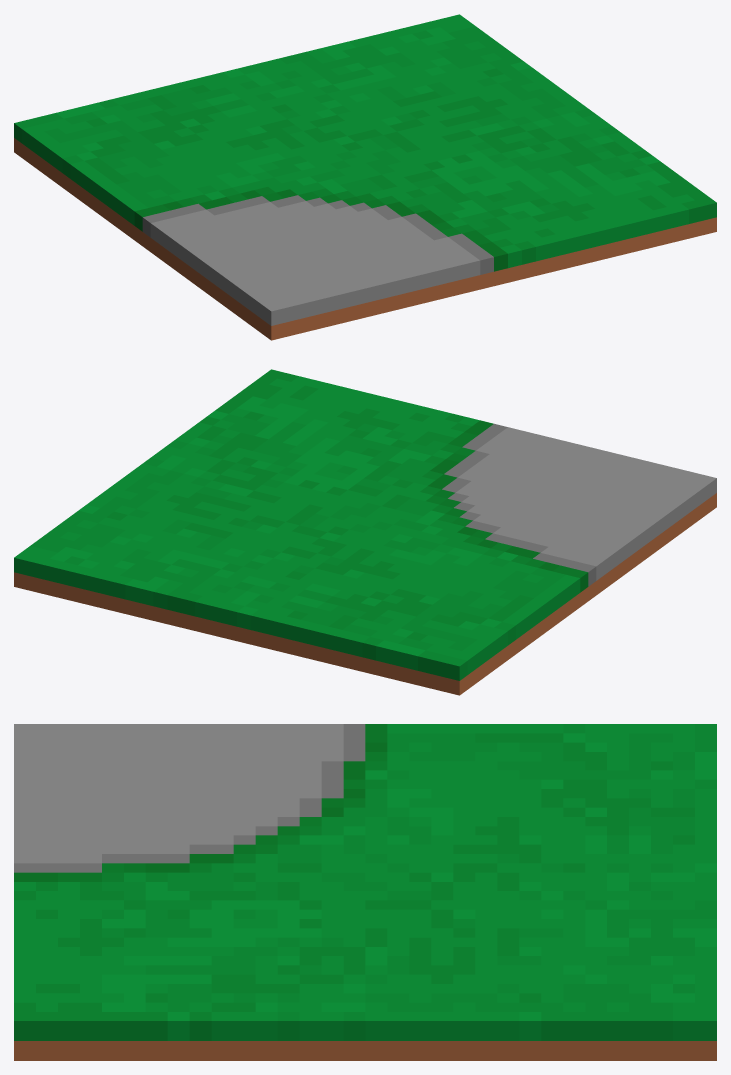
Rendered from forest-city-rounded-edge-inner-2.gltf.
3 renders of one model, top to bottom at view 1: azimuth 30°, elevation 25°; view 2: azimuth 150°, elevation 25°; view 3: azimuth 270°, elevation 25°, orthographic. The views are drawn at different scales.
Visible parts, largest first — view 1: forest-city-rounded-edge-inner-2; view 2: forest-city-rounded-edge-inner-2; view 3: forest-city-rounded-edge-inner-2.
Boxes of the visible parts, left/top/right/bottom form: forest-city-rounded-edge-inner-2: left=14, top=14, right=716, bottom=340; forest-city-rounded-edge-inner-2: left=14, top=369, right=716, bottom=695; forest-city-rounded-edge-inner-2: left=14, top=724, right=716, bottom=1060.
Size of the model in its own units: 3.2 by 0.2 by 3.2.
Materials: 1 (1 with a texture image).
